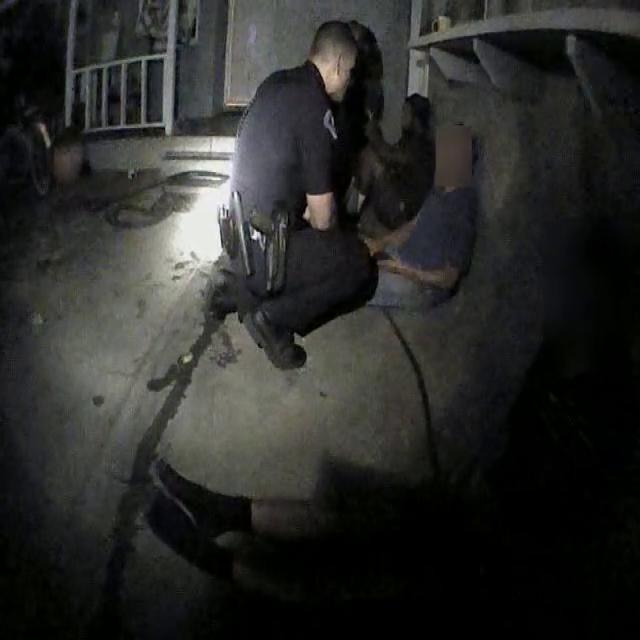gun: (242, 186, 306, 301)
